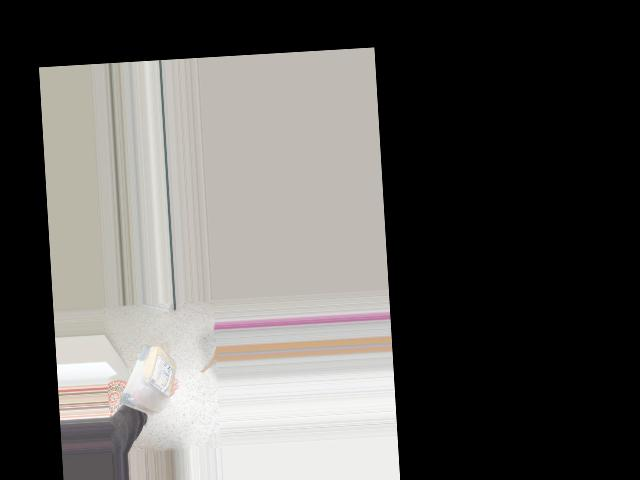cheese: (117, 339, 180, 427)
